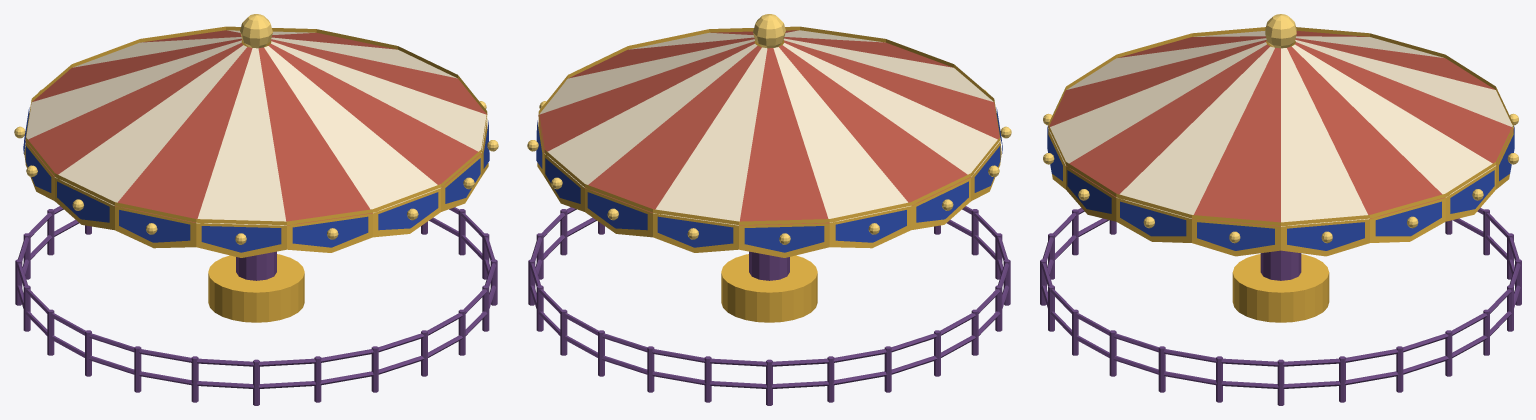
File: carousel_roof.glb
The picture shows the model from 3 angles, left to right: view 1: azimuth 30°, elevation 25°; view 2: azimuth 150°, elevation 25°; view 3: azimuth 270°, elevation 25°; orthographic projection.
Visible parts, largest first — view 1: carousel_roof; view 2: carousel_roof; view 3: carousel_roof.
Boxes of the visible parts, left/top/right/bottom form: carousel_roof: left=14, top=14, right=498, bottom=405; carousel_roof: left=527, top=14, right=1011, bottom=405; carousel_roof: left=1040, top=14, right=1521, bottom=405.
Bounding box in the file's own units: 8.97 × 5.95 × 8.99.
